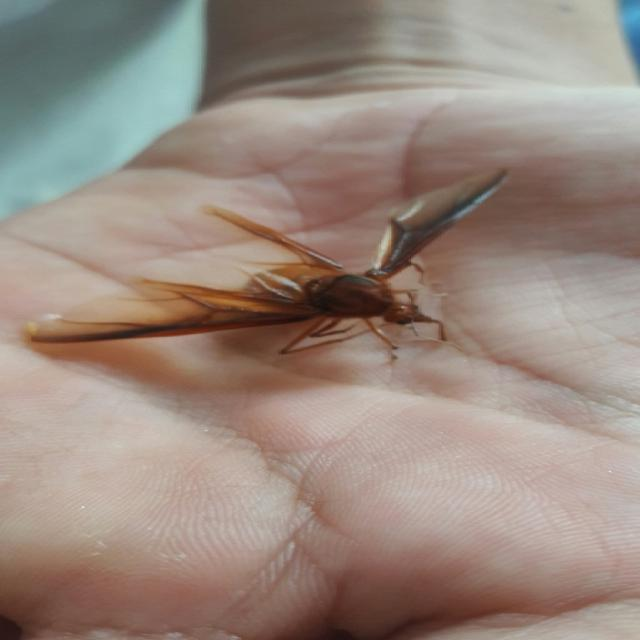Alive-Male-Alate: (25, 167, 512, 366)
